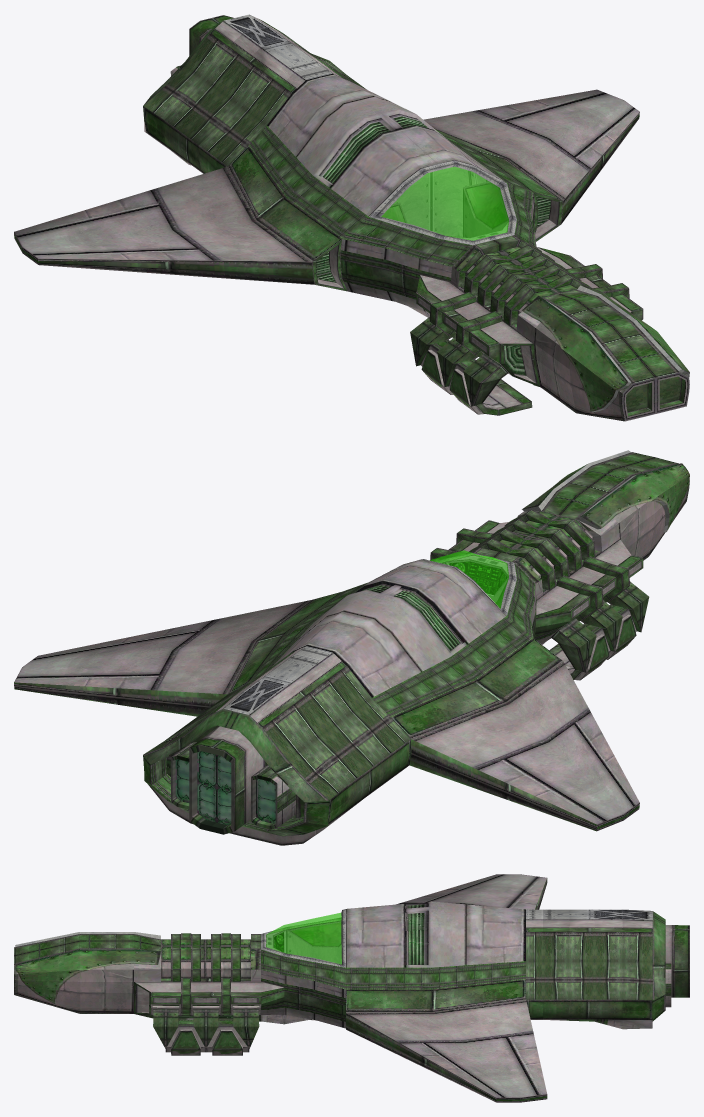
3 views of the same model, one above another, from view 1: azimuth 30°, elevation 25°; view 2: azimuth 150°, elevation 25°; view 3: azimuth 270°, elevation 25° (orthographic). The views are drawn at different scales.
Parts seen in each view (by area): view 1: meg; view 2: meg; view 3: meg.
Boxes of the visible parts, x1=… form: meg: x1=14, y1=14, x2=689, y2=421; meg: x1=14, y1=450, x2=689, y2=845; meg: x1=14, y1=874, x2=689, y2=1102.
Bounding box in the file's own units: 90.07 × 22.93 × 115.
Materials: 8 (7 with a texture image).
